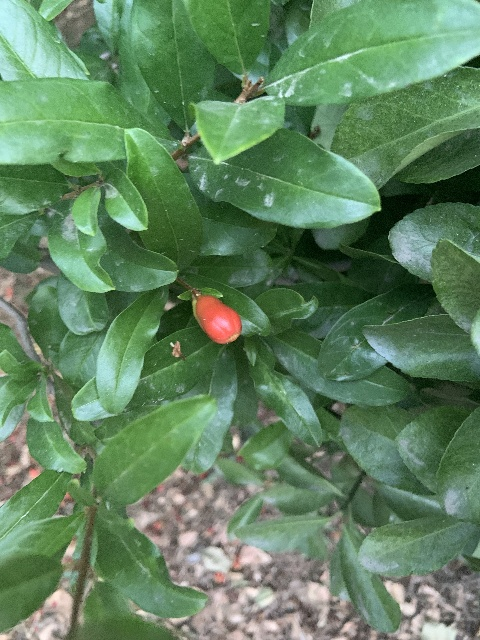bud: (194, 294, 241, 344)
